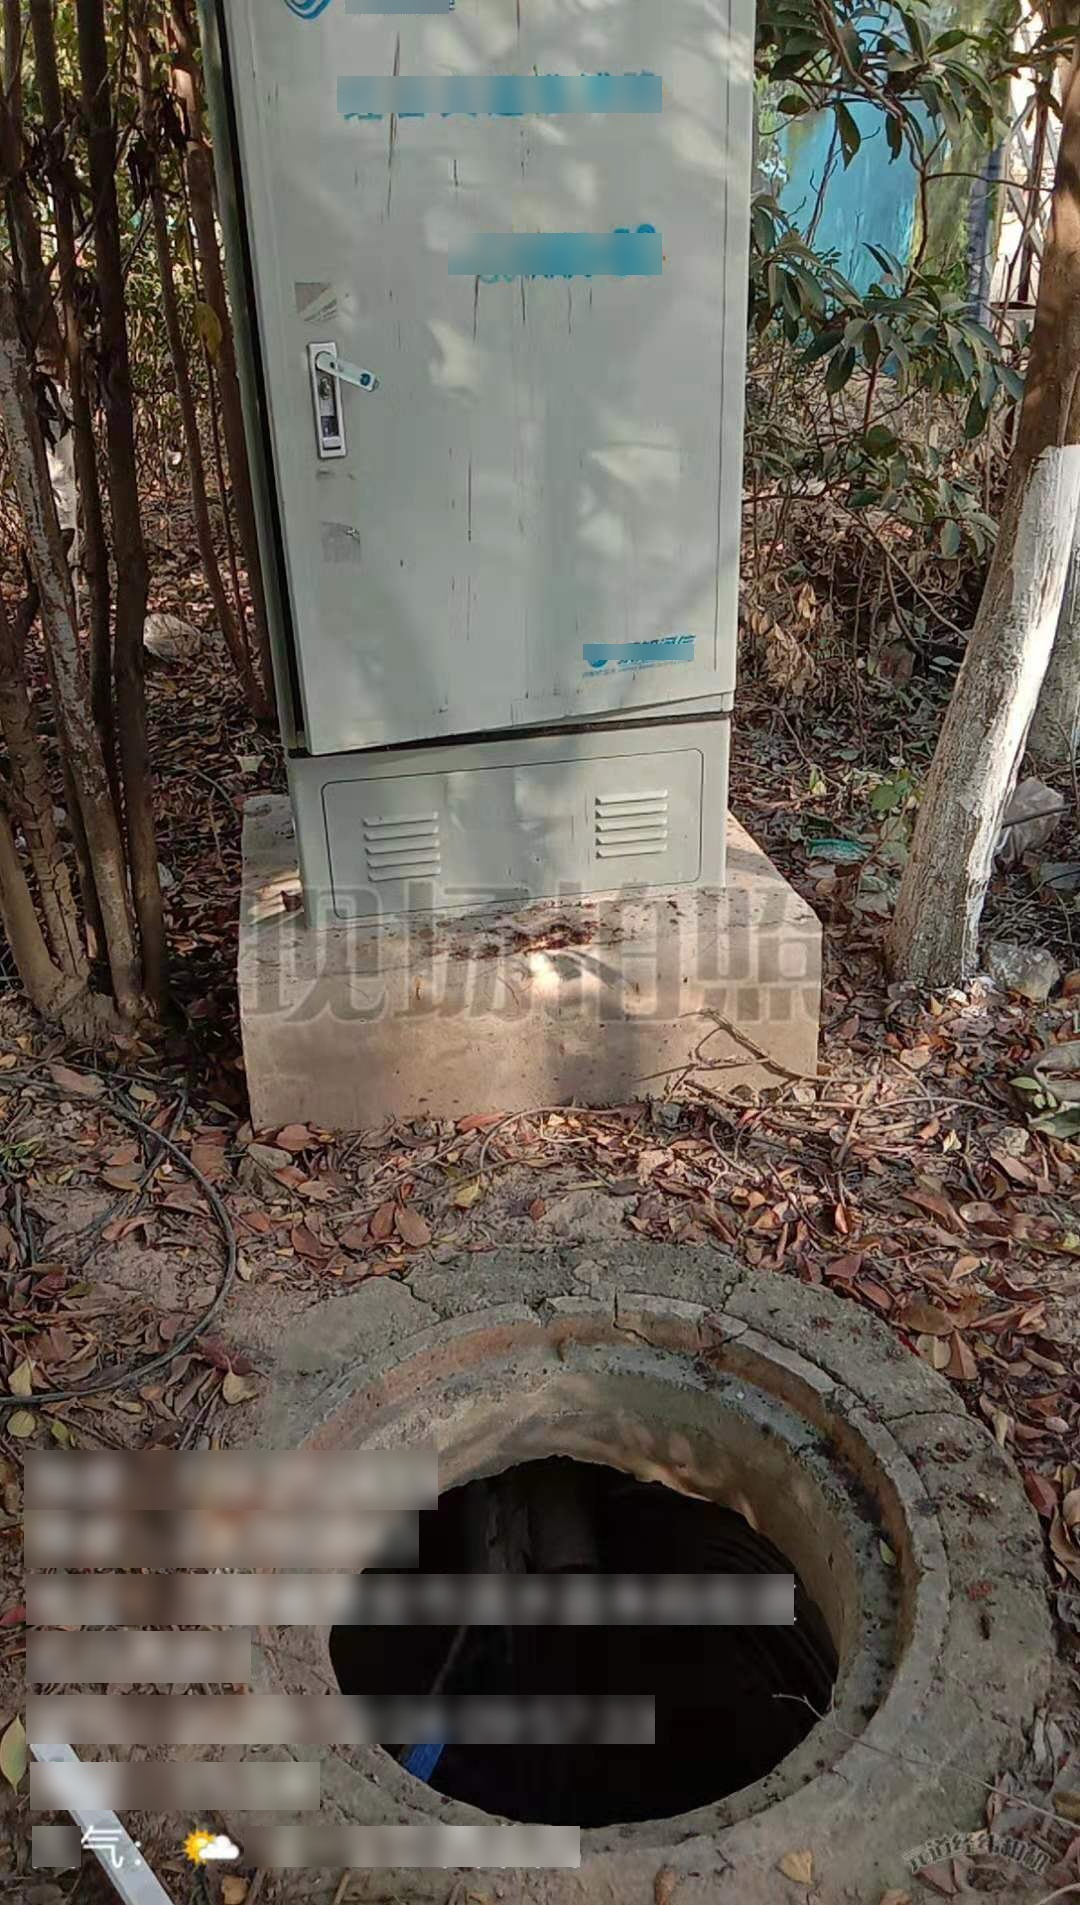lose: (240, 1295, 945, 1853)
